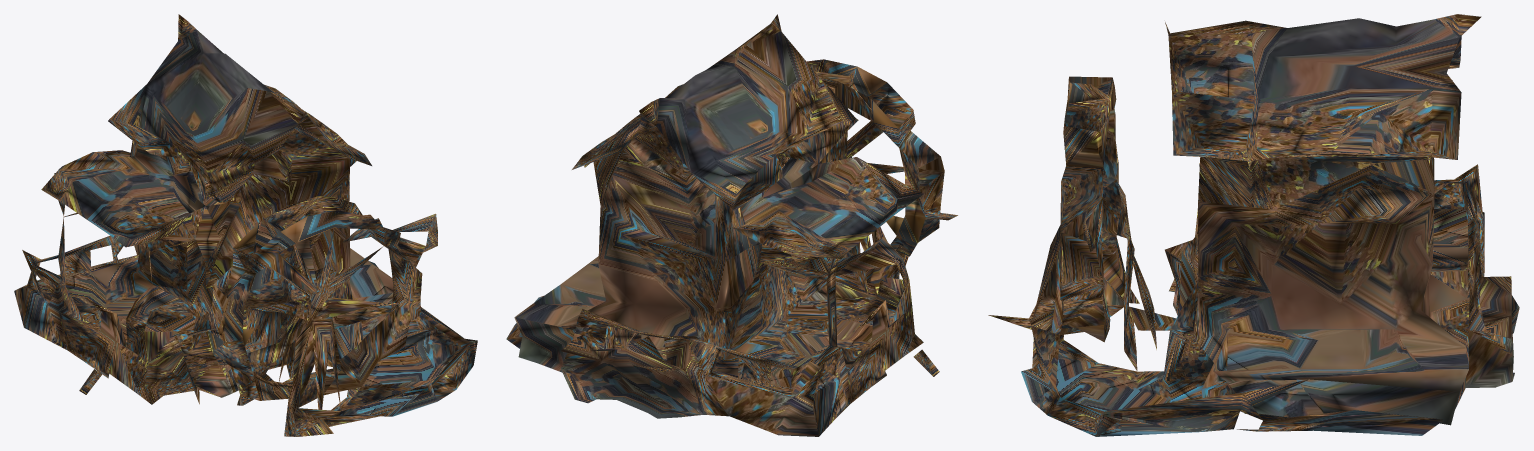
File: h_mill_far.glb
3 views of the same model, side by side, from view 1: azimuth 30°, elevation 25°; view 2: azimuth 150°, elevation 25°; view 3: azimuth 270°, elevation 25° (orthographic). The views are drawn at different scales.
Parts seen in each view (by area): view 1: tripo_node_80d55028-8593-47f4-8f45-d3e8b8fd6c8a; view 2: tripo_node_80d55028-8593-47f4-8f45-d3e8b8fd6c8a; view 3: tripo_node_80d55028-8593-47f4-8f45-d3e8b8fd6c8a.
Part boxes in pixels (box(x1,y1,x2,y2)): tripo_node_80d55028-8593-47f4-8f45-d3e8b8fd6c8a: box(14, 14, 477, 436); tripo_node_80d55028-8593-47f4-8f45-d3e8b8fd6c8a: box(506, 14, 957, 436); tripo_node_80d55028-8593-47f4-8f45-d3e8b8fd6c8a: box(988, 14, 1519, 436).
Bounding box in the file's own units: 0.8864 × 0.7089 × 0.9882.
1 material, 1 textured.
